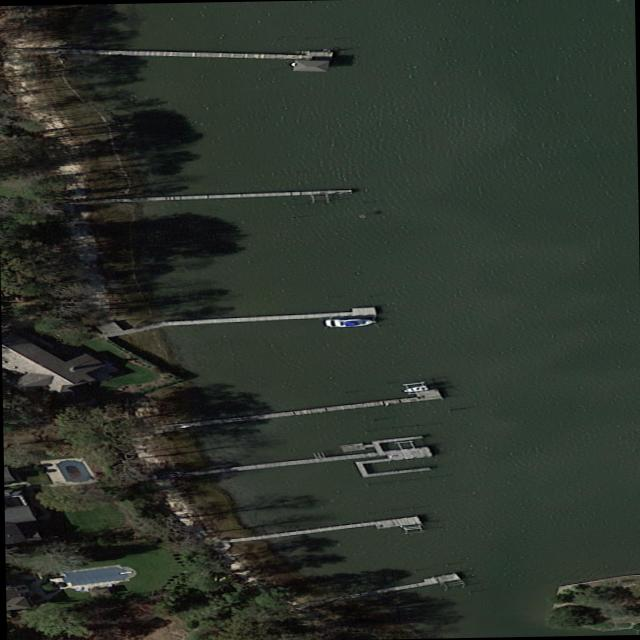ship: (319, 317, 377, 328), (398, 385, 429, 393)
